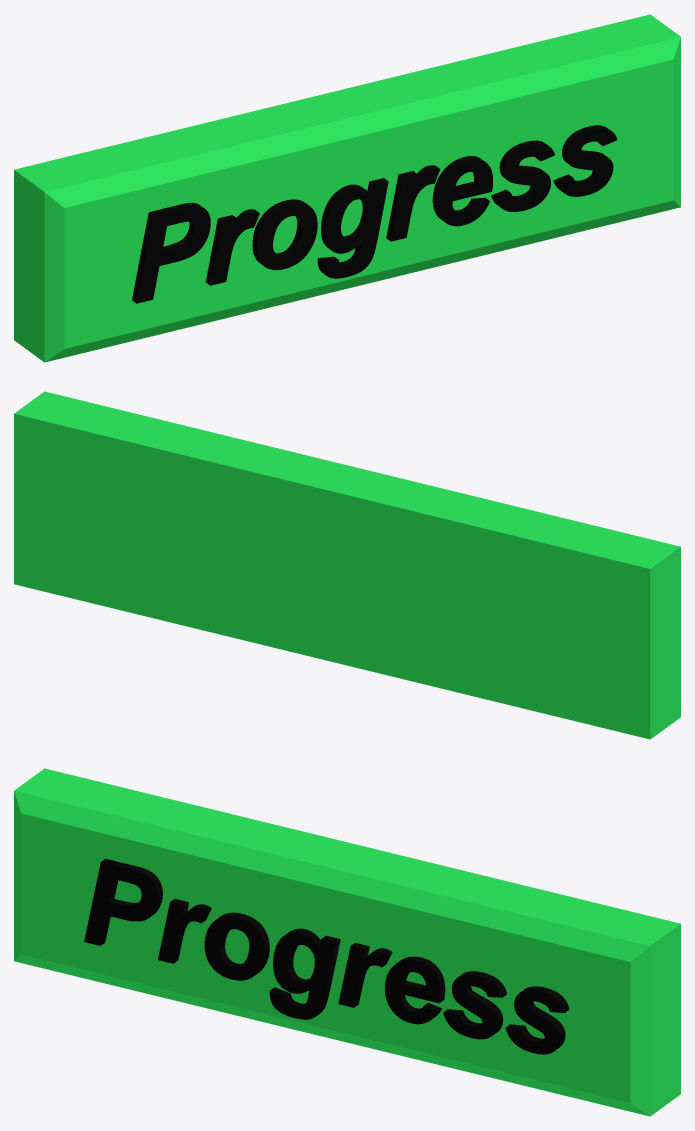
The model's file is Progress_button.fbx.
3 renders of one model, top to bottom at view 1: azimuth 30°, elevation 25°; view 2: azimuth 150°, elevation 25°; view 3: azimuth 330°, elevation 25°, orthographic.
Visible parts, largest first — view 1: Progress_button; view 2: Progress_button; view 3: Progress_button.
Boxes of the visible parts, x1,y1,x2,y2 form: Progress_button: (14,14,680,362); Progress_button: (14,391,680,739); Progress_button: (14,768,680,1116).
Bounding box in the file's own units: 735 × 188 × 83.27.
